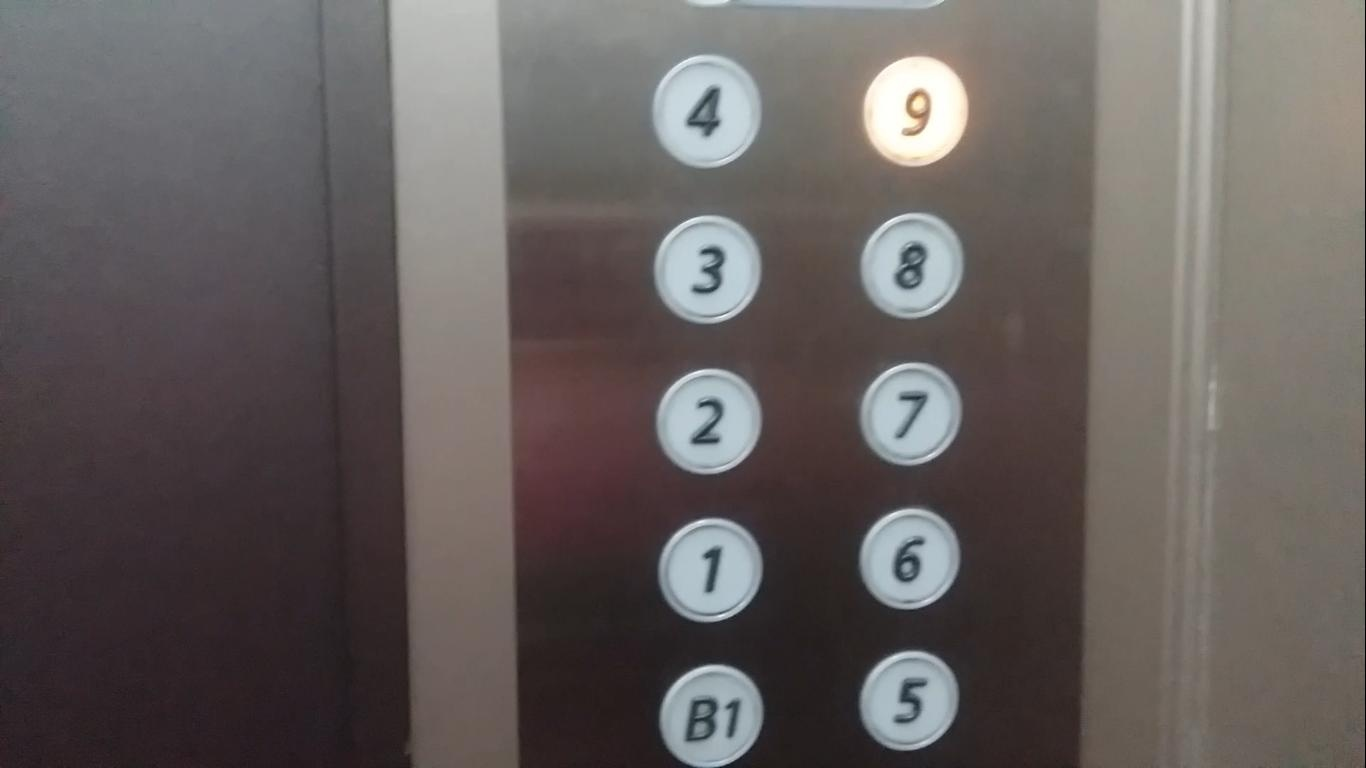1: (655, 511, 771, 629)
2: (652, 360, 768, 478)
3: (648, 205, 769, 331)
4: (647, 48, 768, 174)
5: (853, 644, 967, 755)
6: (853, 503, 967, 614)
7: (854, 359, 968, 470)
8: (856, 210, 970, 321)
9: (859, 50, 974, 167)
B1: (657, 657, 771, 768)
